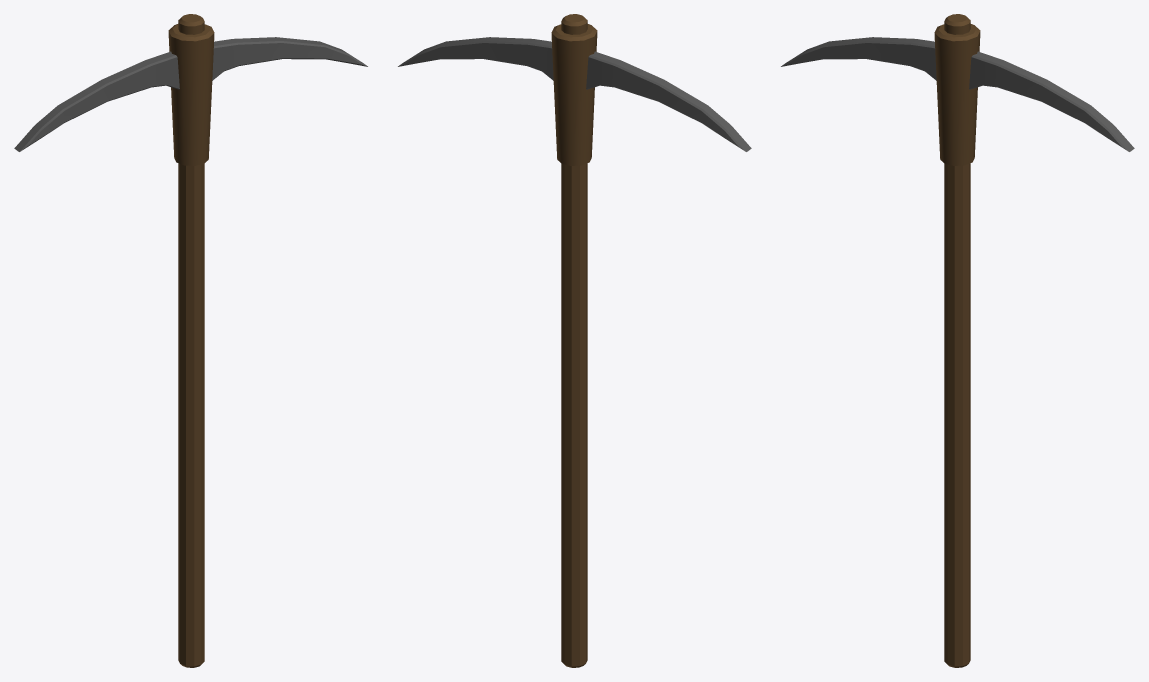
Rendered from Pickaxe_01.fbx.
3 views of the same model, side by side, from view 1: azimuth 30°, elevation 25°; view 2: azimuth 150°, elevation 25°; view 3: azimuth 330°, elevation 25° (orthographic).
Parts seen in each view (by area): view 1: polySurface40; view 2: polySurface40; view 3: polySurface40.
Boxes of the visible parts, x1,y1,x2,y2 form: polySurface40: [14, 14, 367, 667]; polySurface40: [398, 14, 751, 667]; polySurface40: [781, 14, 1134, 667].
Bounding box in the file's own units: 44.17 × 77.97 × 4.82.
